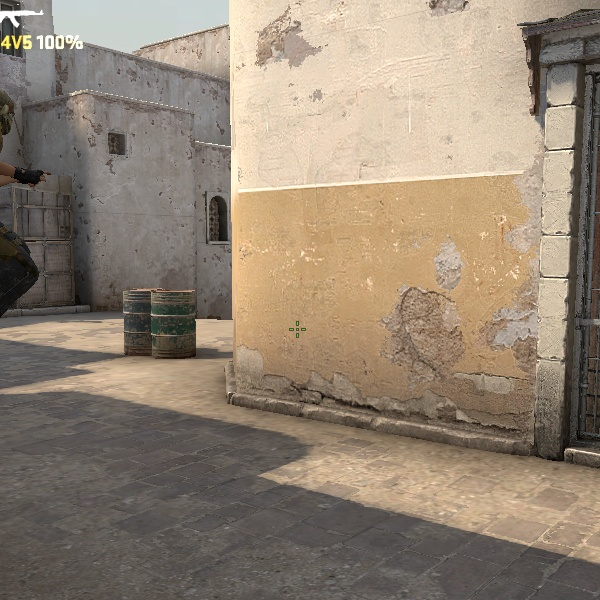t_head: (1, 79, 21, 143)
